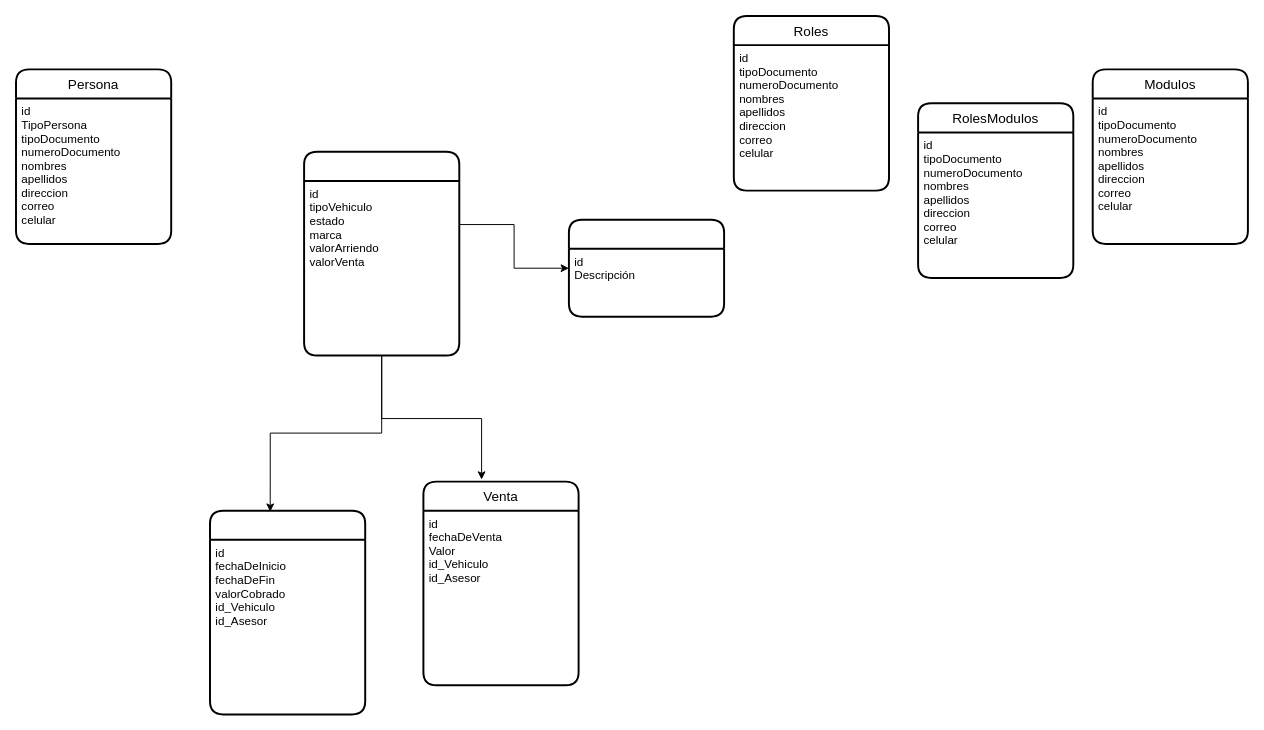
Some shapes in this 1264 by 730 pixel diagram are drawn without their labels. The shapes that lost their labels are listed below. From the top down, each one's box as (x1, y1, x2, y2) in pixels, then its label:
(303, 150, 460, 356): Vehiculos
(567, 218, 725, 317): TiposVehiculos
(209, 509, 366, 715): Alquiler
